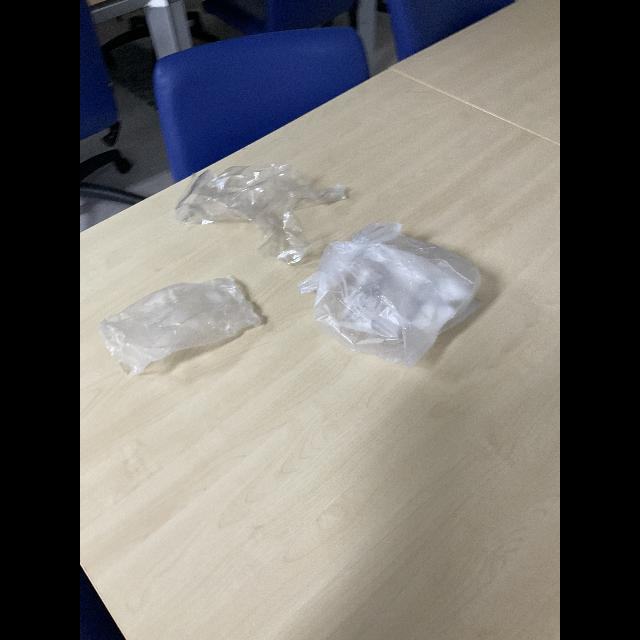plastic_bag: (310, 225, 498, 367), (178, 148, 348, 256), (99, 278, 269, 376)
